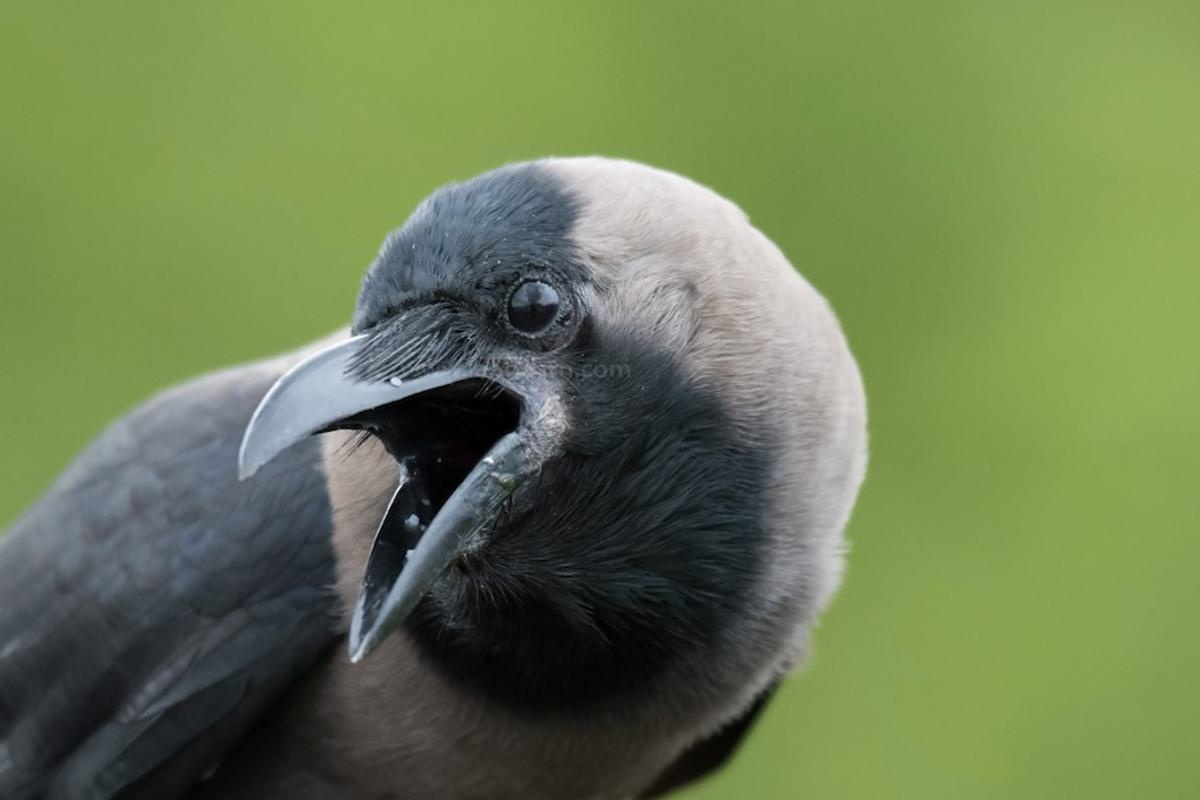crow: (1, 131, 900, 800)
